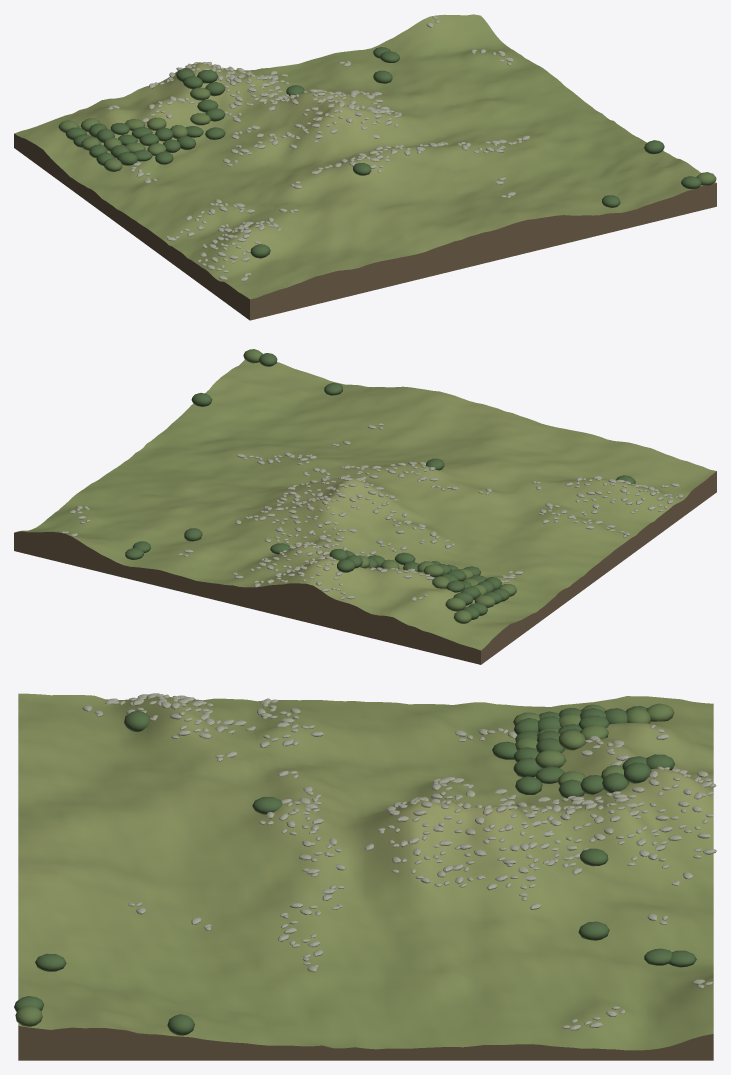
File: gms-15.glb
3 views of the same model, one above another, from view 1: azimuth 30°, elevation 25°; view 2: azimuth 150°, elevation 25°; view 3: azimuth 270°, elevation 25° (orthographic). The views are drawn at different scales.
Visible parts, largest first — view 1: GMS-15 - estudio del paisaje; view 2: GMS-15 - estudio del paisaje; view 3: GMS-15 - estudio del paisaje.
Part boxes in pixels (x1,y1,x2,y2): GMS-15 - estudio del paisaje: (14,14,716,320); GMS-15 - estudio del paisaje: (14,349,716,664); GMS-15 - estudio del paisaje: (14,693,716,1060).
Size of the model in its own units: 12.05 by 1.46 by 10.61.
